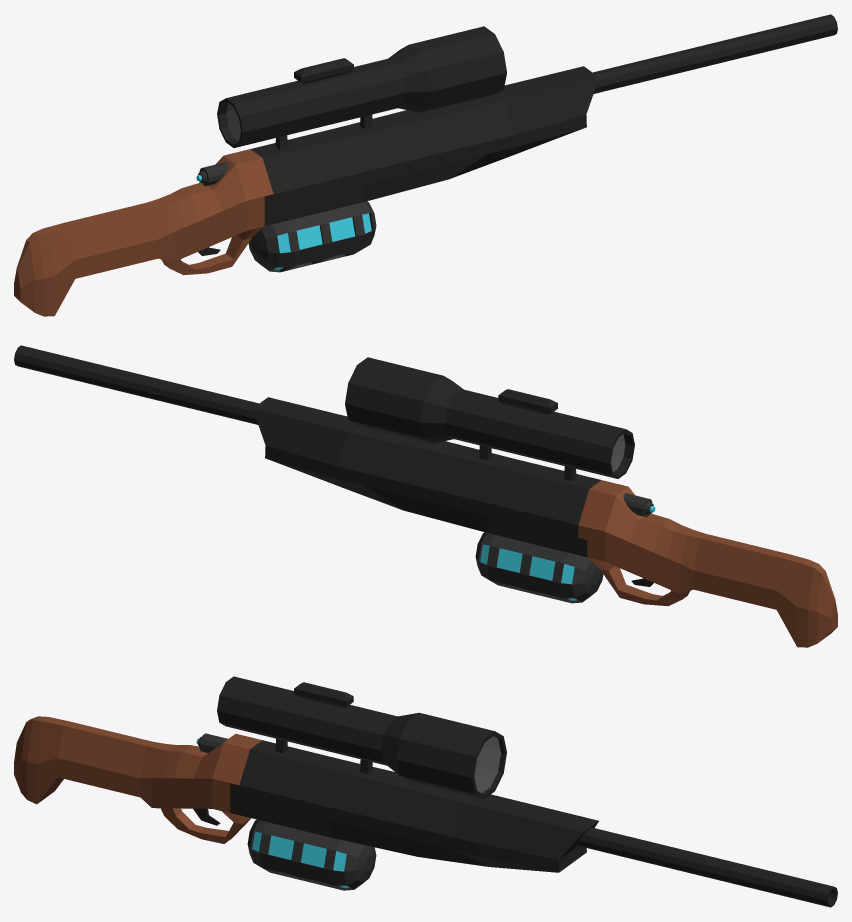
File: Sniper.fbx
3 renders of one model, top to bottom at view 1: azimuth 30°, elevation 25°; view 2: azimuth 150°, elevation 25°; view 3: azimuth 330°, elevation 25°, orthographic.
Parts seen in each view (by area): view 1: Bidy, Battery; view 2: Bidy, Battery; view 3: Bidy, Battery.
Boxes of the visible parts, x1,y1,x2,y2 form: Bidy: (14,14,837,316); Battery: (248,201,376,272); Bidy: (14,345,837,647); Battery: (475,532,603,603); Bidy: (14,676,837,907); Battery: (247,819,376,890).
Bounding box in the file's own units: 2028 × 458 × 150.
